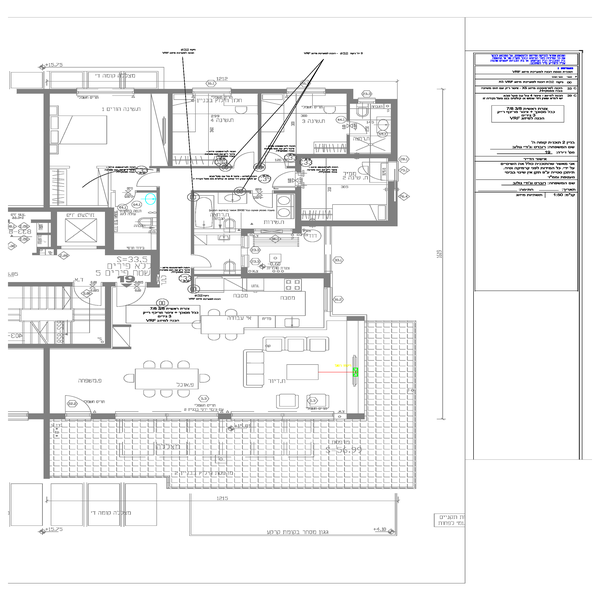room: (186, 267, 368, 421), (3, 202, 111, 354), (40, 338, 186, 421), (38, 84, 174, 172), (187, 187, 308, 279), (289, 154, 395, 232)
